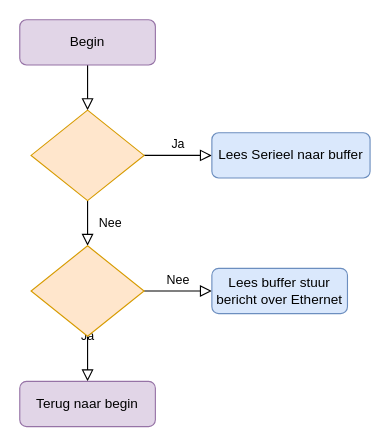
Some shapes in this 390 by 446 pixel diagram are drawn without their labels. The shapes that lost their labels are listed below. From the top down, each one's box as (x1, y1, x2, y2) in pixels, then its label:
(30, 109, 144, 201): Serieel beschikbaar?
(30, 245, 144, 336): Buffer leeg
